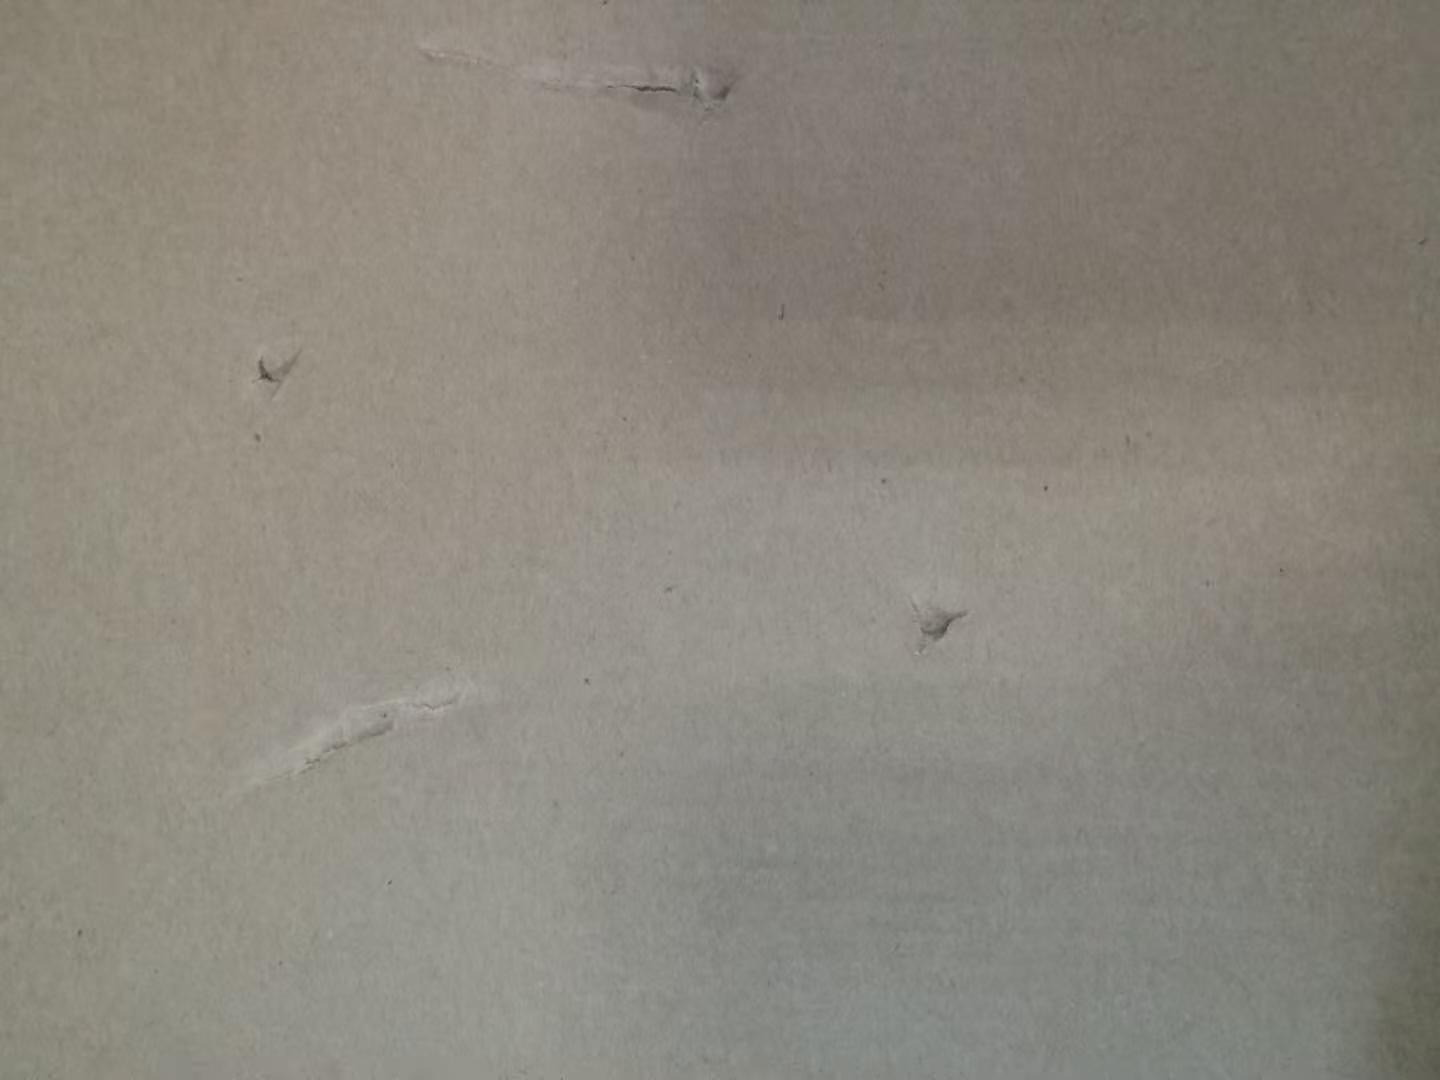defect: (198, 646, 505, 822), (401, 16, 774, 143), (876, 569, 1000, 682), (222, 312, 325, 429)
